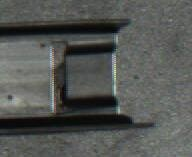press: (23, 17, 150, 129)
